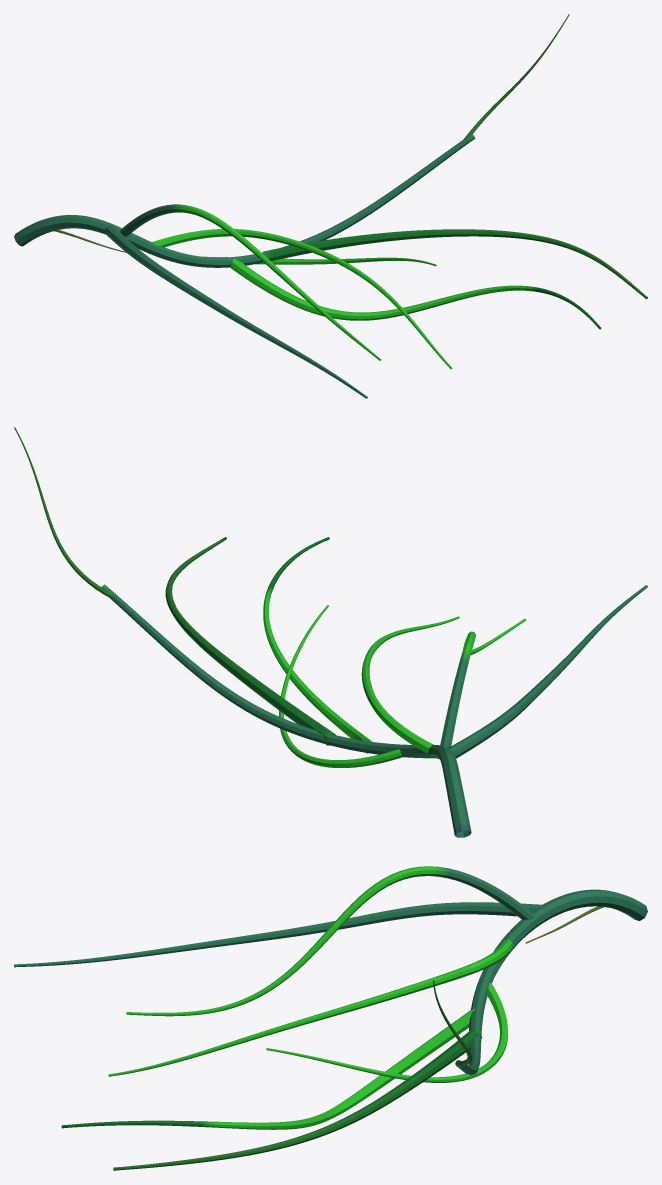
The model's file is ufo_rm_spur_side.obj.
3 renders of one model, top to bottom at view 1: azimuth 30°, elevation 25°; view 2: azimuth 150°, elevation 25°; view 3: azimuth 270°, elevation 25°, orthographic. The views are drawn at different scales.
Size of the model in its own units: 2.05 by 0.9194 by 1.92.
